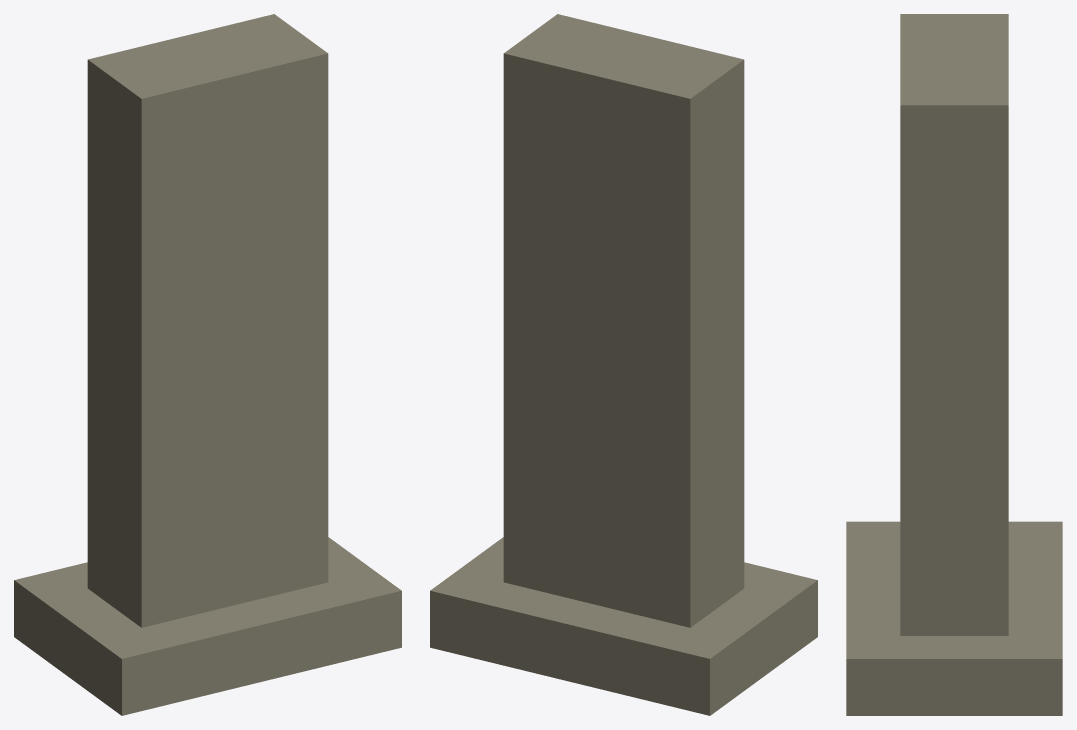
The model's file is ruin-stela.zfix-v16.lod2.glb.
The picture shows the model from 3 angles, left to right: view 1: azimuth 30°, elevation 25°; view 2: azimuth 150°, elevation 25°; view 3: azimuth 270°, elevation 25°; orthographic projection.
Visible parts, largest first — view 1: ruin-stela; view 2: ruin-stela; view 3: ruin-stela.
Part boxes in pixels (box(x1,y1,x2,y2)): ruin-stela: box(14, 14, 401, 715); ruin-stela: box(430, 14, 817, 715); ruin-stela: box(846, 14, 1062, 715).
Size of the model in its own units: 1.8 by 3.61 by 1.2.
